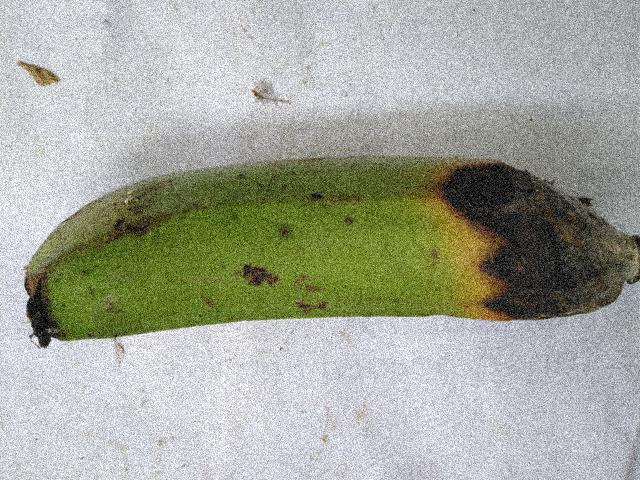rotten: (417, 134, 639, 347), (0, 249, 79, 349)
